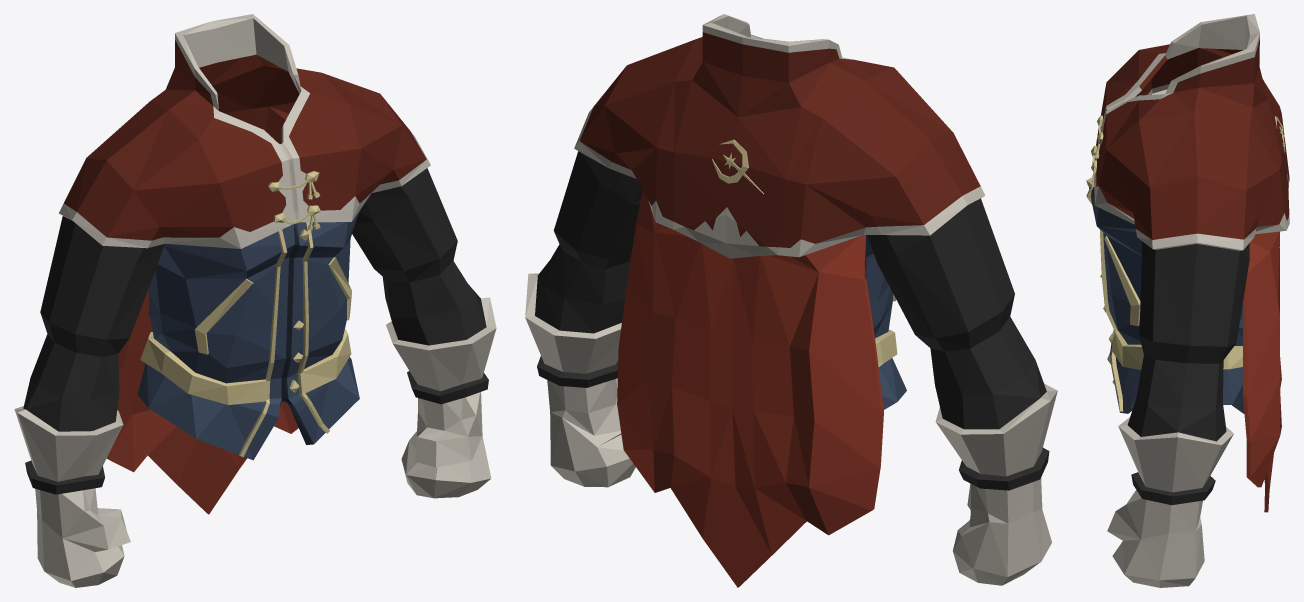
The model's file is LegendaryStarmagiChestplate.dae.
3 renders of one model, left to right at view 1: azimuth 30°, elevation 25°; view 2: azimuth 150°, elevation 25°; view 3: azimuth 270°, elevation 25°, orthographic. The views are drawn at different scales.
Parts seen in each view (by area): view 1: Chestplate; view 2: Chestplate; view 3: Chestplate.
Part boxes in pixels (x1,y1,x2,y2): Chestplate: [14, 14, 496, 587]; Chestplate: [525, 14, 1057, 587]; Chestplate: [1086, 14, 1289, 587].
Bounding box in the file's own units: 5.4 × 2.08 × 5.4.
